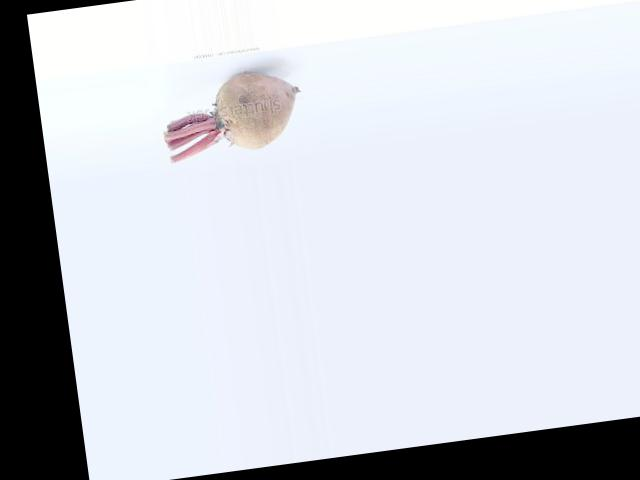beet: (158, 67, 304, 161)
